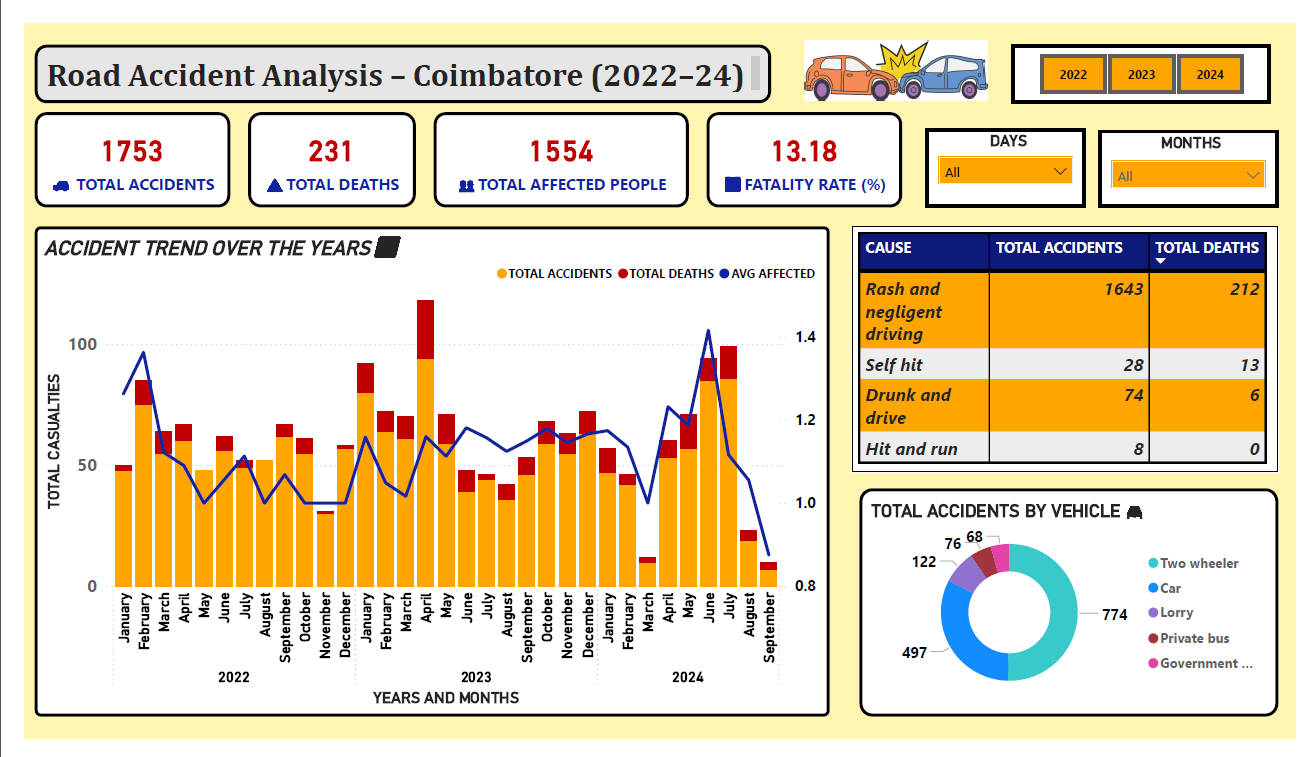

The dashboard page shown, as its layout file describes it:
{"tool":"powerbi","page":{"name":"Overview","canvas":[1280,720],"ordinal":0},"visuals":[{"type":"textbox","box":[9.5,20.7,742.8,58.9],"z":0},{"type":"card","fields":{"Values":["Raw data.TOTAL ACCIDENTS"]},"box":[9.5,89.1,197.2,95.4],"z":1000},{"type":"card","fields":{"Values":["Raw data.TOTAL DEATHS"]},"box":[225.3,89.1,168.6,95.4],"z":2000},{"type":"lineStackedColumnComboChart","title":" ACCIDENT TREND OVER THE YEARS📈","fields":{"Category":["Raw data.DATE.Variation.Date Hierarchy.Year","Raw data.DATE.Variation.Date Hierarchy.Month"],"Y":["Raw data.TOTAL ACCIDENTS","Raw data.TOTAL DEATHS"],"Y2":["Raw data.AVG AFFECTED"]},"box":[9.5,203.6,801.7,494.7],"z":3000},{"type":"card","fields":{"Values":["CountNonNull(Raw data.AFFECTED PEOPLE)"]},"box":[412.5,89.1,256.1,95.4],"z":4000},{"type":"card","fields":{"Values":["Raw data.Fatality Rate (%)"]},"box":[687.1,89.1,197.2,95.4],"z":5000},{"type":"slicer","title":"YEARS","fields":{"Values":["Raw data.Year"]},"box":[994.1,20.7,260.9,58.9],"z":6000},{"type":"slicer","title":"MONTHS","fields":{"Values":["Raw data.Month Name"]},"box":[1081.6,106.6,181.3,77.9],"z":7000},{"type":"slicer","title":"DAYS","fields":{"Values":["Raw data.Day Name"]},"box":[908.2,105,160.7,79.5],"z":8000},{"type":"donutChart","title":"TOTAL ACCIDENTS BY VEHICLE🚘 ","fields":{"Category":["Raw data.VEHICLE"],"Y":["Raw data.TOTAL ACCIDENTS"]},"box":[841.4,467.6,421.5,230.6],"z":9000},{"type":"tableEx","fields":{"Values":["Raw data.CAUSE","Raw data.TOTAL ACCIDENTS","Raw data.TOTAL DEATHS"]},"box":[833.5,203.6,429.5,248.1],"z":10000},{"type":"image","box":[785.8,4.8,184.5,84.3],"z":11000}]}

Visuals, with their boxes in screenshot pixels (x1, y1, x2, y2), scaled from the page's 1280x720 canvas onto the 1315x757 screenshot:
textbox: [10,22,773,84]
card - Raw data.TOTAL ACCIDENTS: [10,94,212,194]
card - Raw data.TOTAL DEATHS: [231,94,405,194]
" ACCIDENT TREND OVER THE YEARS📈" lineStackedColumnComboChart: [10,214,833,734]
card - CountNonNull(Raw data.AFFECTED PEOPLE): [424,94,687,194]
card - Raw data.Fatality Rate (%): [706,94,908,194]
"YEARS" slicer: [1021,22,1289,84]
"MONTHS" slicer: [1111,112,1297,194]
"DAYS" slicer: [933,110,1098,194]
"TOTAL ACCIDENTS BY VEHICLE🚘 " donutChart: [864,492,1297,734]
tableEx - Raw data.CAUSE x Raw data.TOTAL ACCIDENTS: [856,214,1298,475]
image: [807,5,997,94]
